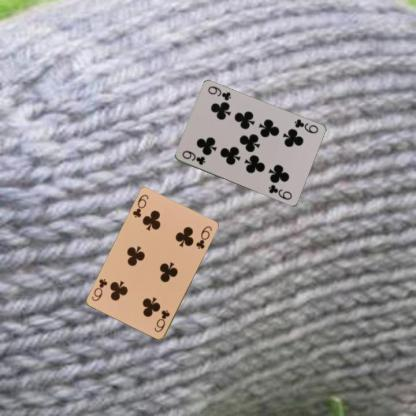6c: (130, 192, 150, 219), (151, 308, 171, 334)
9c: (291, 116, 319, 134), (179, 148, 206, 166)
